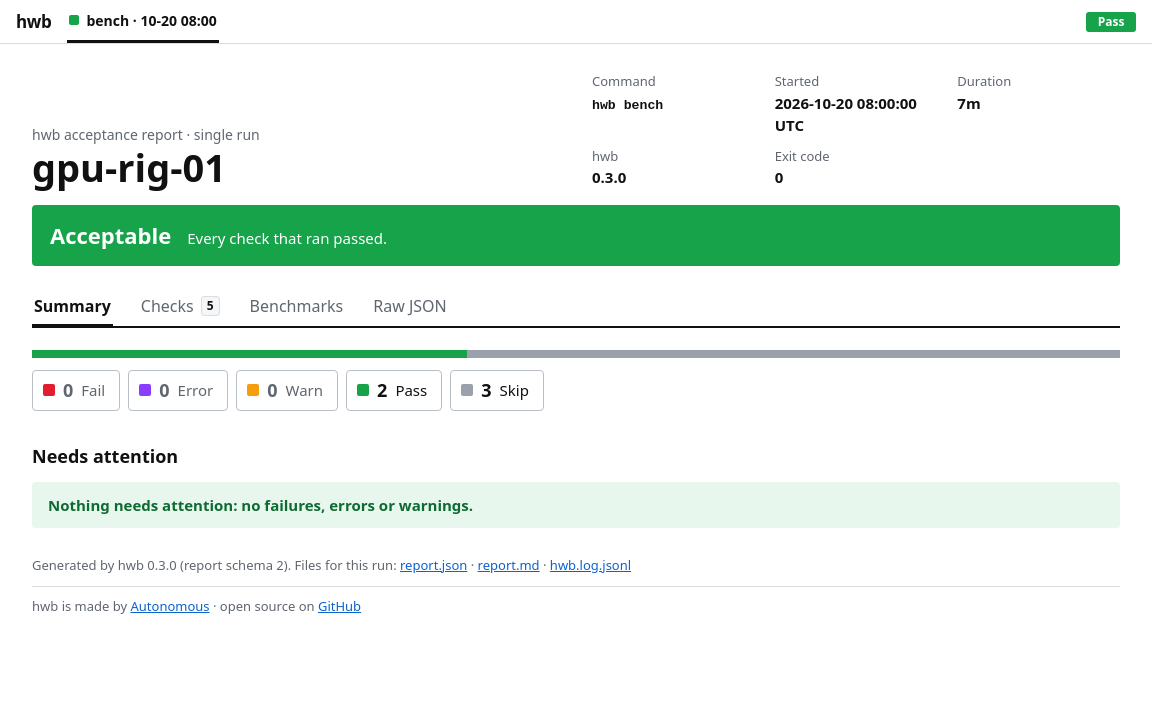
Test case: benchmarks › reads values at the crosshair with the keyboard
Click the tab "Benchmarks" at {"x": 296, "y": 310}, box [248, 294, 345, 328]
(page scrolled)
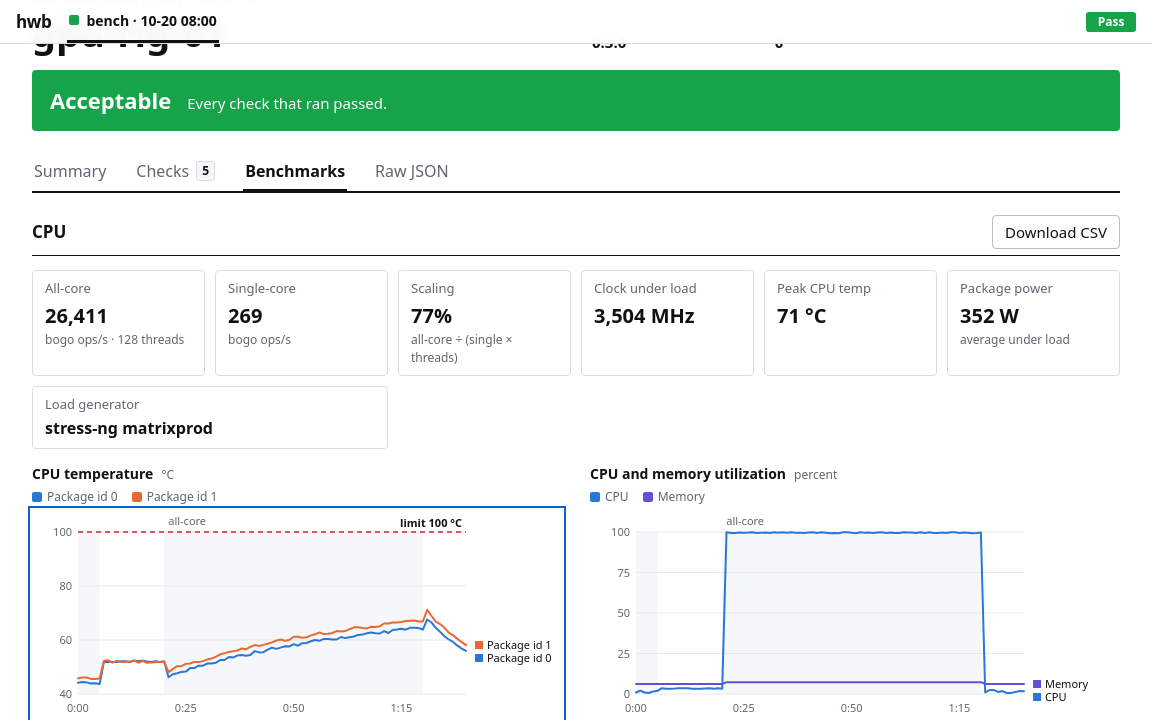
Press Arrowright
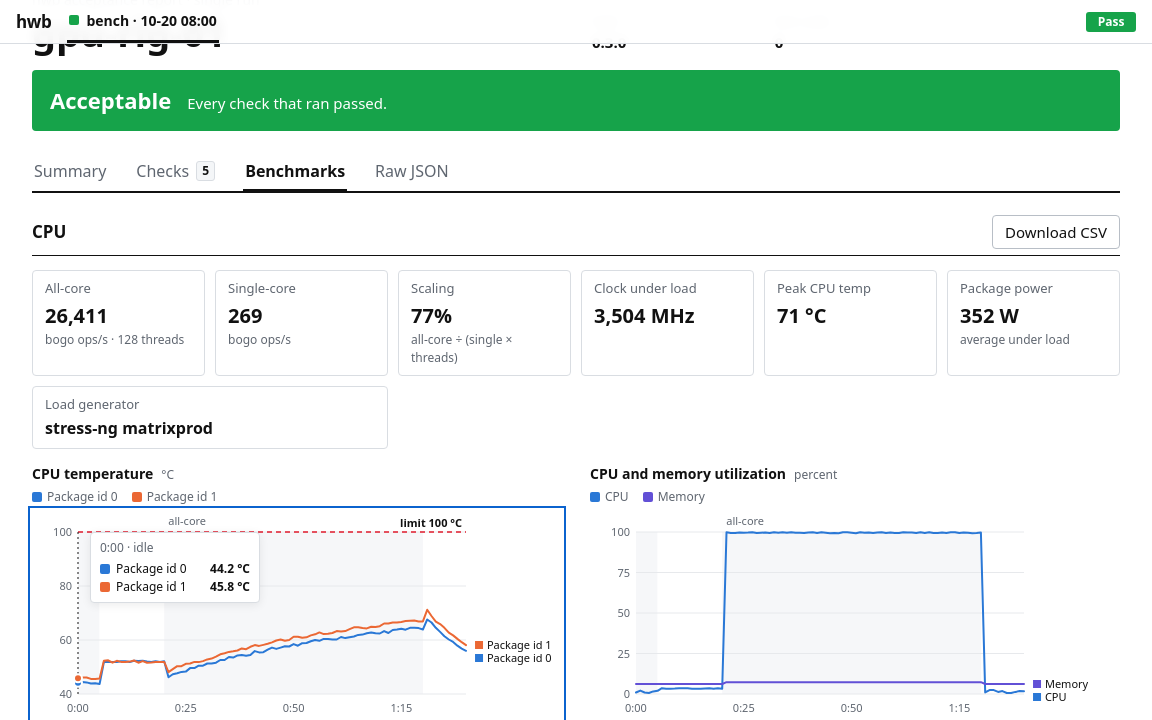
Result: the text with class "tt-time" reads "0:00 · idle" at [100, 539, 154, 556]
Result: the number of elements with class "tt-row" is 2 at [100, 560, 250, 578]; [100, 578, 250, 596]
Result: the element with class "tooltip" reads "0:00 · idle Package id 0 44.2 °C Package id 1 45.8 °C" at [90, 532, 260, 603]
